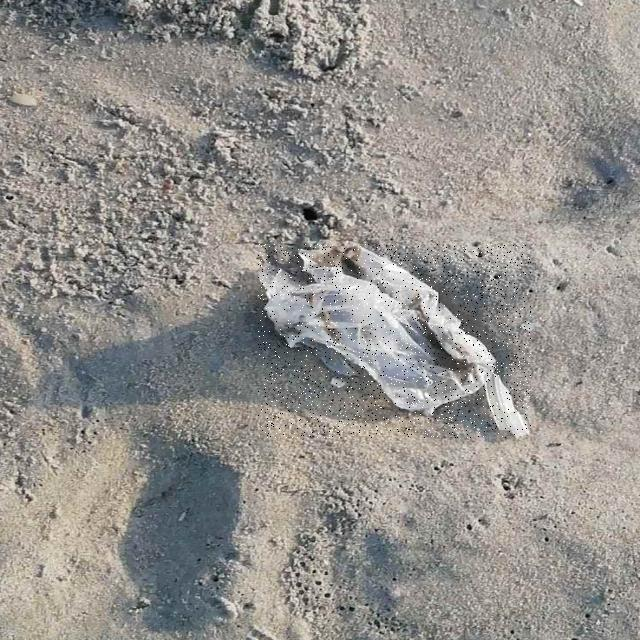plastic: (259, 244, 531, 438)
